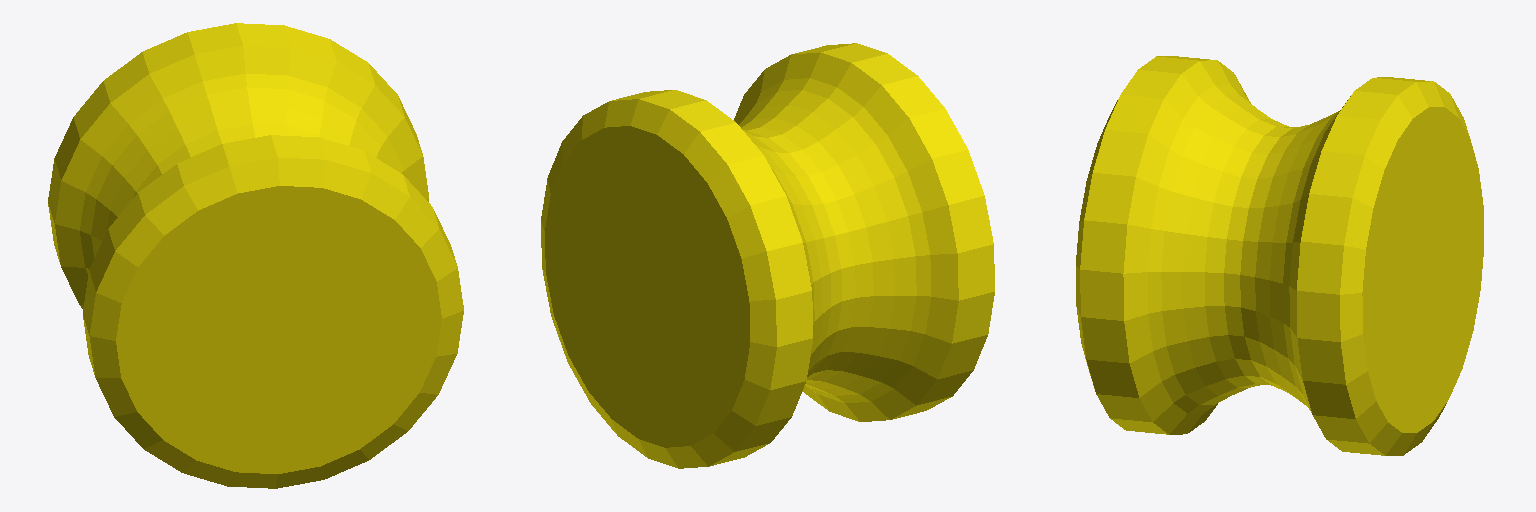
The picture shows the model from 3 angles: view 1: azimuth 30°, elevation 25°; view 2: azimuth 150°, elevation 25°; view 3: azimuth 270°, elevation 25°; orthographic projection.
Parts seen in each view (by area): view 1: D-6_Cylinder.003; view 2: D-6_Cylinder.003; view 3: D-6_Cylinder.003.
Boxes of the visible parts, <box> form: D-6_Cylinder.003: <box>48,23,463,488</box>; D-6_Cylinder.003: <box>541,43,994,468</box>; D-6_Cylinder.003: <box>1076,56,1483,455</box>.
Bounding box in the file's own units: 2.24 × 1.96 × 2.02.
1 materials, 1 textured.